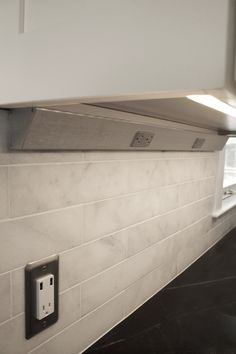outlet: (41, 302, 52, 315), (144, 133, 154, 146), (135, 133, 144, 146)
